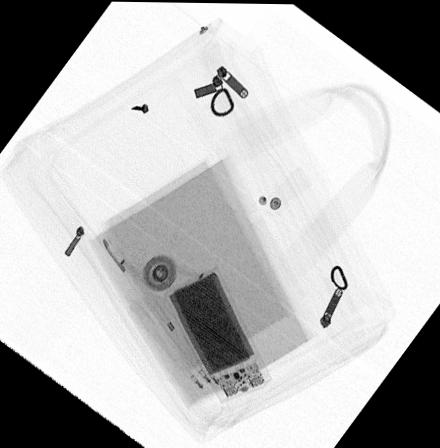Powerbank: (163, 267, 271, 404)
